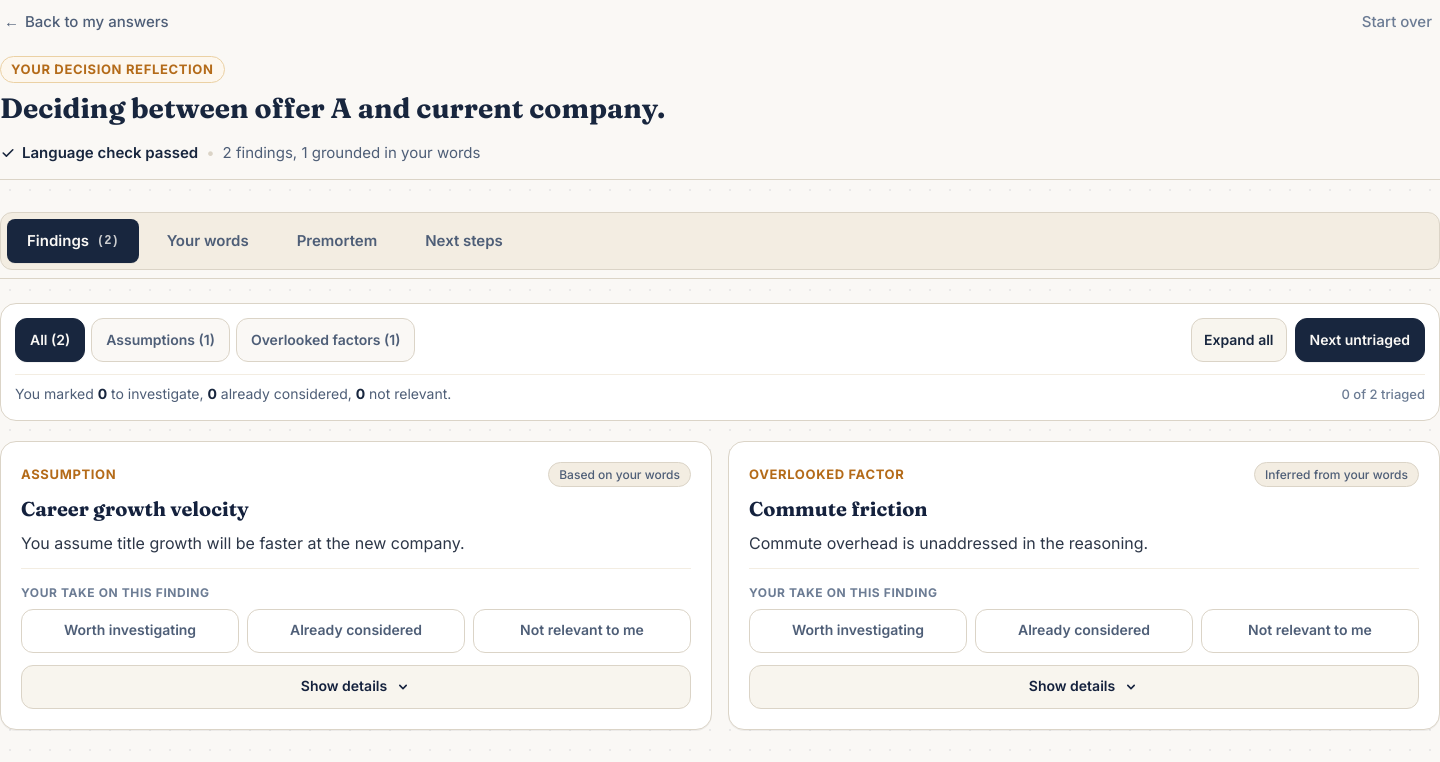
Test: Phase 9: Results Redesign & Reliability Integration › Next Steps Checklist & Empty State › renders explicit empty state when no findings are marked worth investigating
Navigate to Next steps tab directly
Click the tab "Next steps": (464, 241) [405,219,523,263]
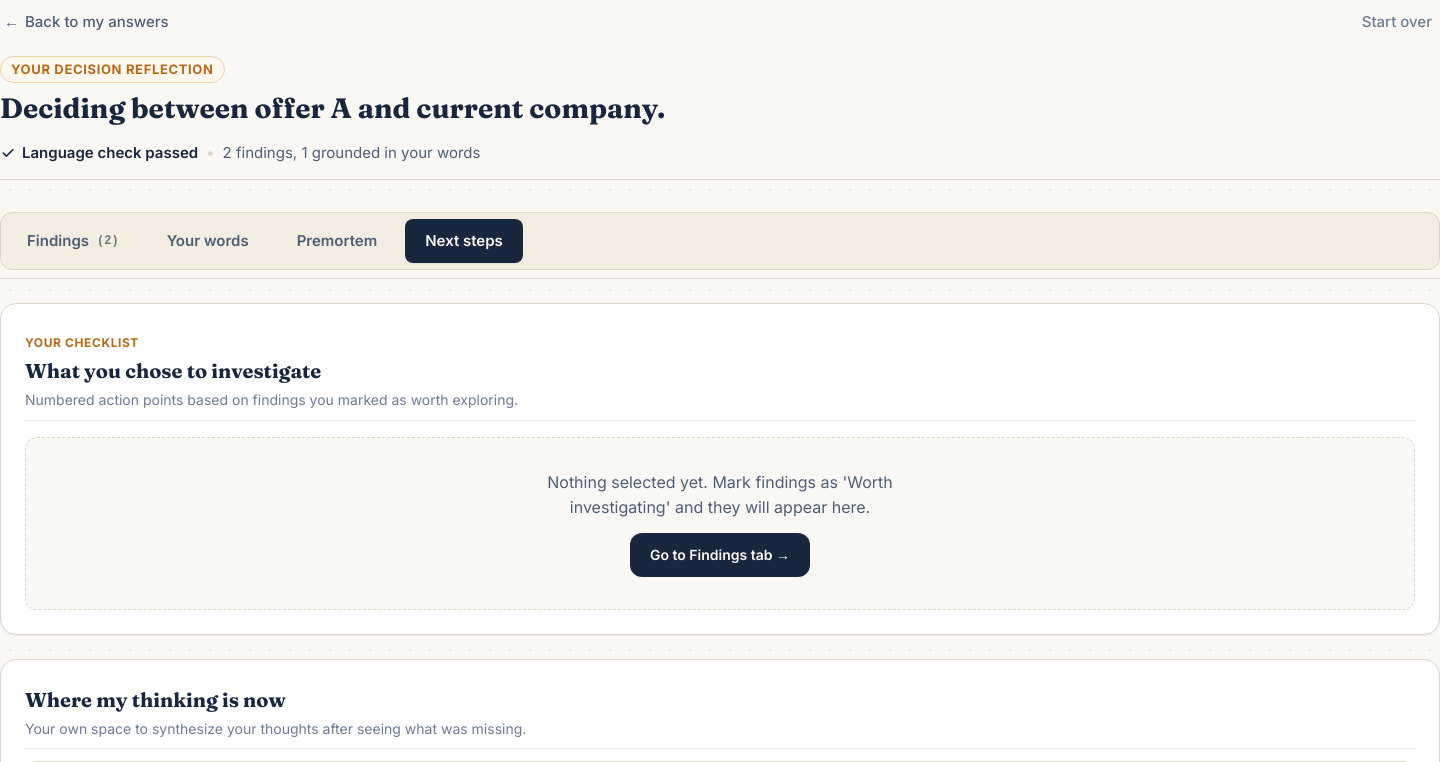
Expected: the text "Nothing selected yet" is shown, [547,472,893,518]
